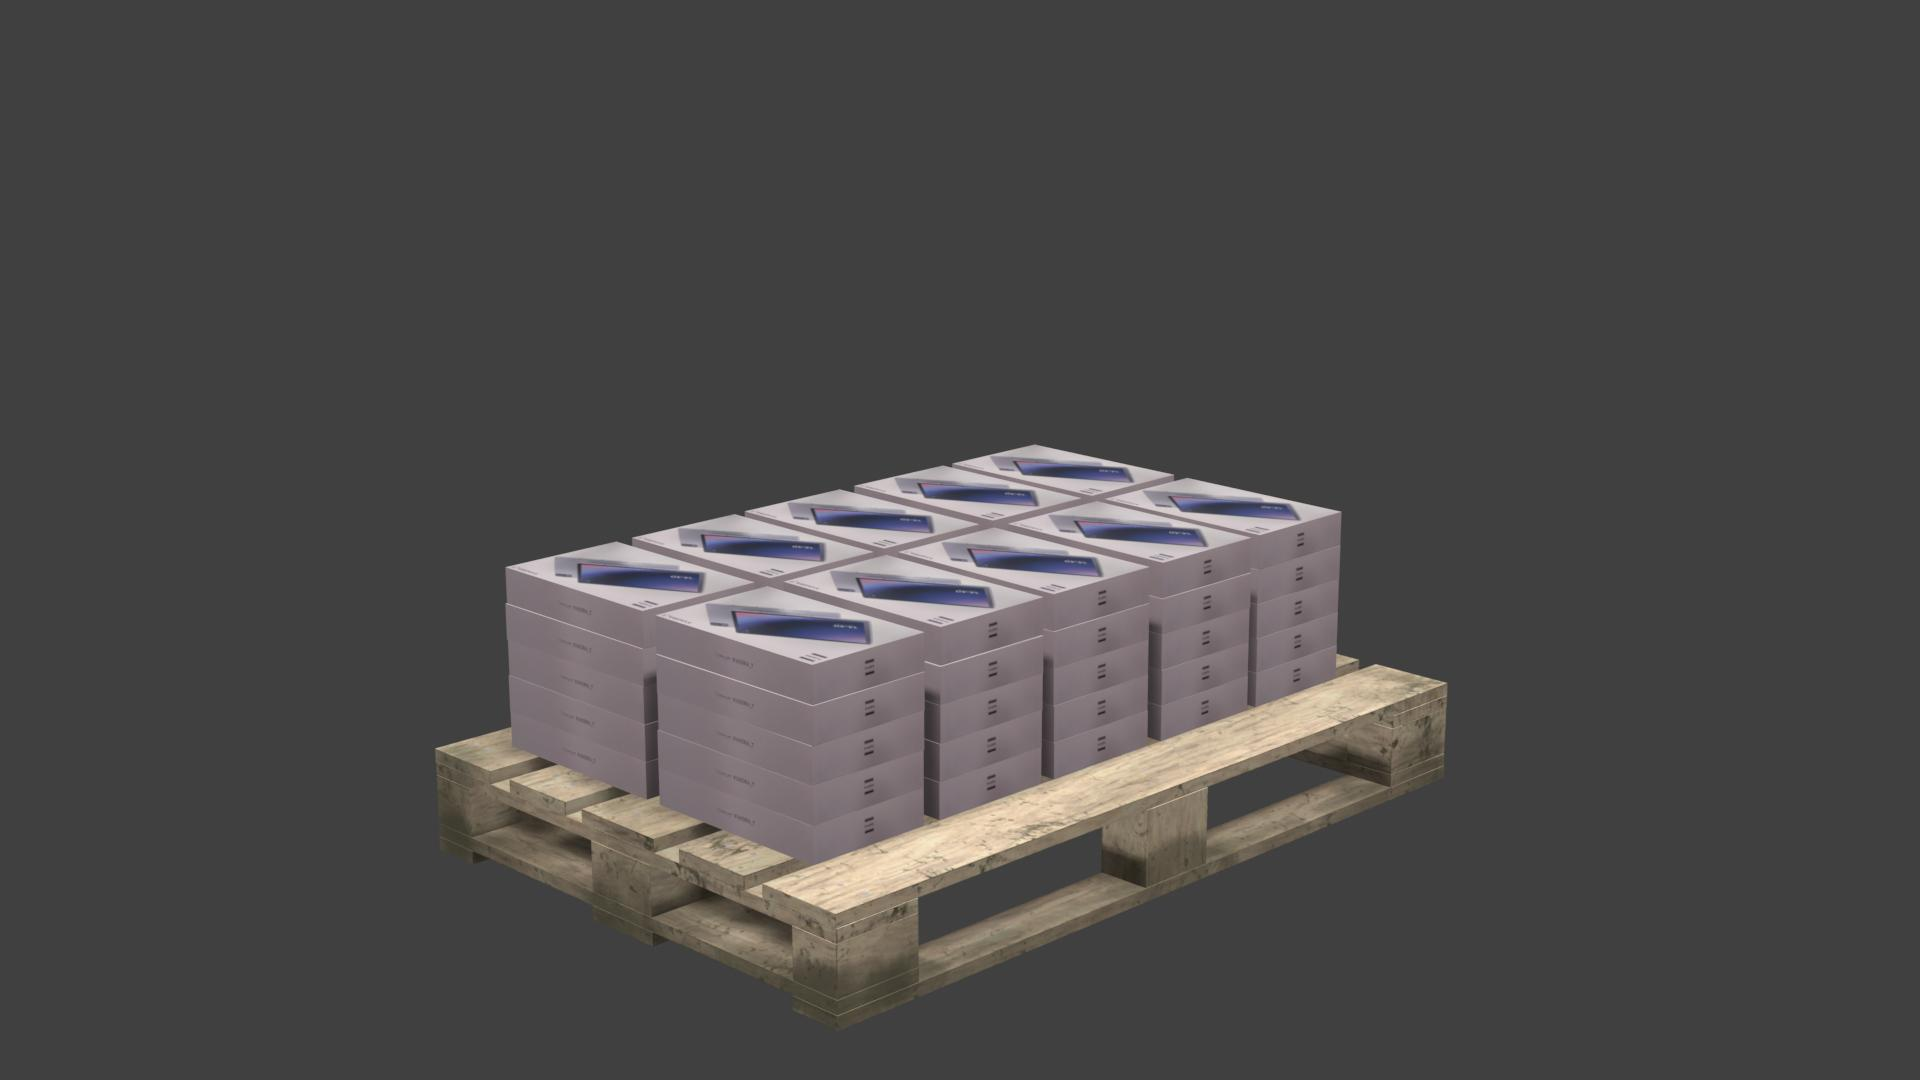palet: (435, 654, 1449, 1030)
tablet_left: (659, 769, 926, 866), (657, 694, 924, 787), (658, 733, 923, 827), (657, 657, 924, 745), (655, 618, 926, 705), (509, 678, 647, 762), (512, 716, 649, 800), (506, 605, 645, 686), (508, 644, 644, 724), (505, 570, 646, 646), (924, 709, 1043, 782), (924, 750, 1042, 820), (926, 636, 1042, 705), (926, 675, 1042, 744), (926, 599, 1042, 666), (1043, 712, 1149, 779), (1043, 676, 1149, 741), (1043, 568, 1150, 632), (1043, 605, 1149, 669), (1044, 642, 1149, 704), (1149, 676, 1247, 741), (1149, 642, 1249, 705), (1149, 608, 1249, 670), (1150, 538, 1250, 599), (1150, 575, 1251, 634), (1247, 646, 1337, 708), (1250, 613, 1337, 673), (1253, 546, 1340, 604), (1251, 513, 1340, 570), (1251, 580, 1338, 637)
tablet_top: (659, 585, 923, 666), (790, 554, 1042, 628), (509, 541, 754, 611), (899, 529, 1147, 596), (634, 513, 870, 578), (1010, 500, 1250, 563), (748, 489, 977, 551), (1106, 479, 1338, 537), (858, 465, 1080, 521), (955, 444, 1172, 497)
